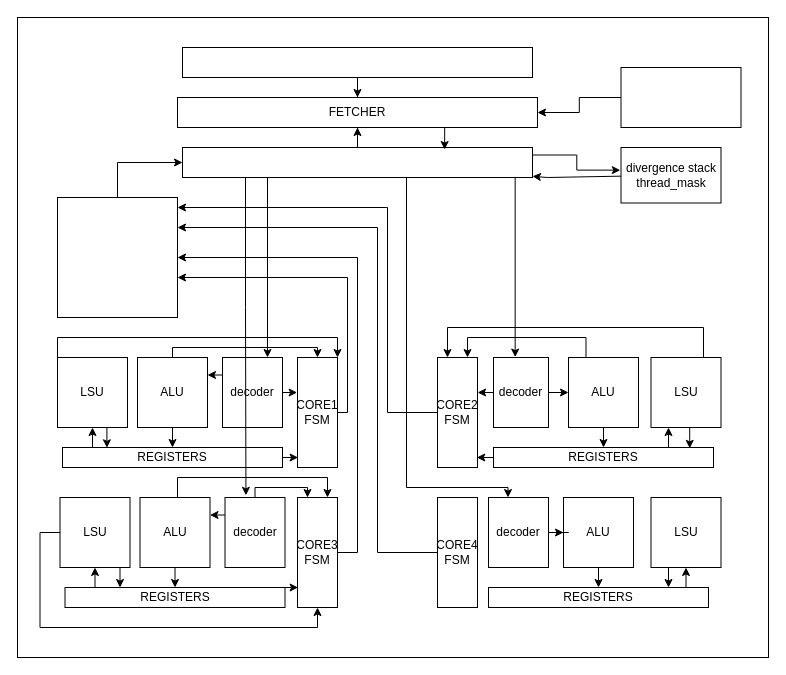
Image size: 786x675. Some labels were removed from this diagram. Each missing label, with the centre of its shape:
"FSM_CONTROLLER" goes at point 117,257.
"İMEM" goes at point 357,62.
"LOAD_BALANCER" goes at point 357,162.
"PC" goes at point 680,97.
